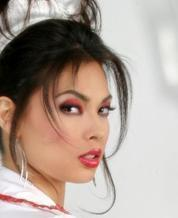face: (57, 90, 109, 169)
